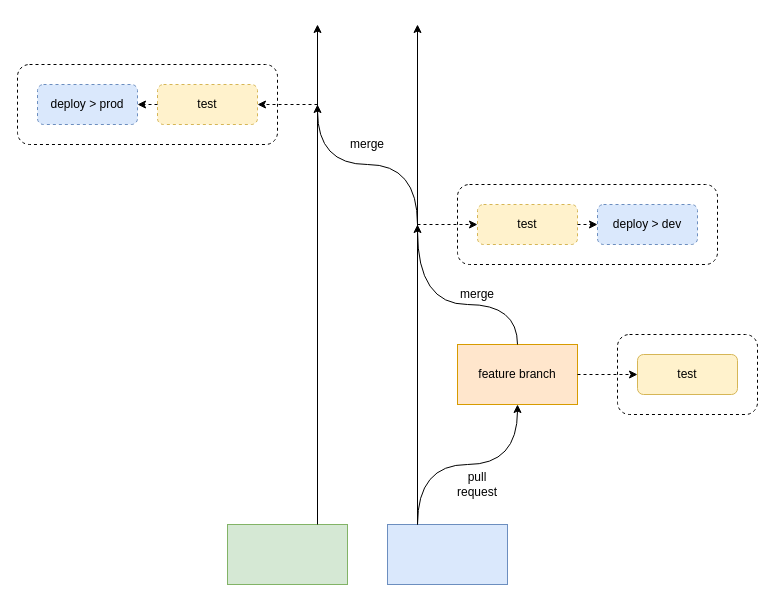
This 775x602 diagram has some shape labels left out. The centre of each missing label's shape, as x and y in pixels:
dev branch: [447,554]
main branch: [287,554]
